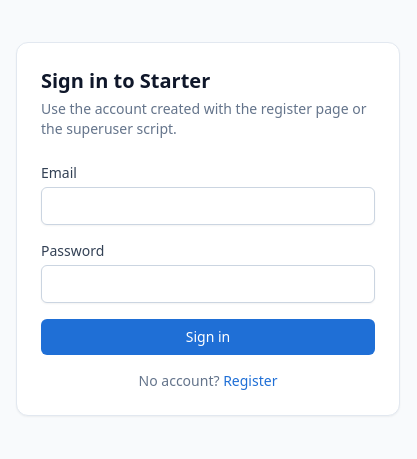
Test: auth flow › shows the server error message when credentials are rejected
Type "akib@example.com" into the field labelled "Email" at (208, 206), box [41,187,375,225]
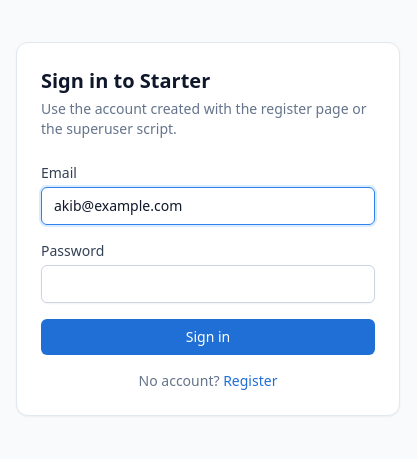
Type "secret123" into the password field labelled "Password" at (208, 284), box [41,265,375,303]
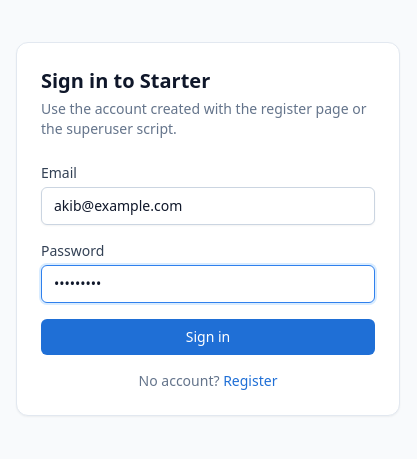
Click the button "Sign in" at (208, 337), box [41,319,375,355]
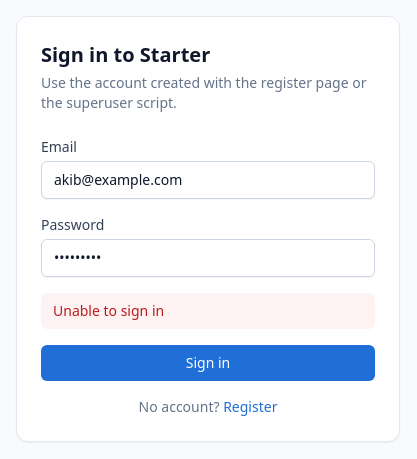
Expected: the message reads "Unable to sign in", [53,301,164,320]
